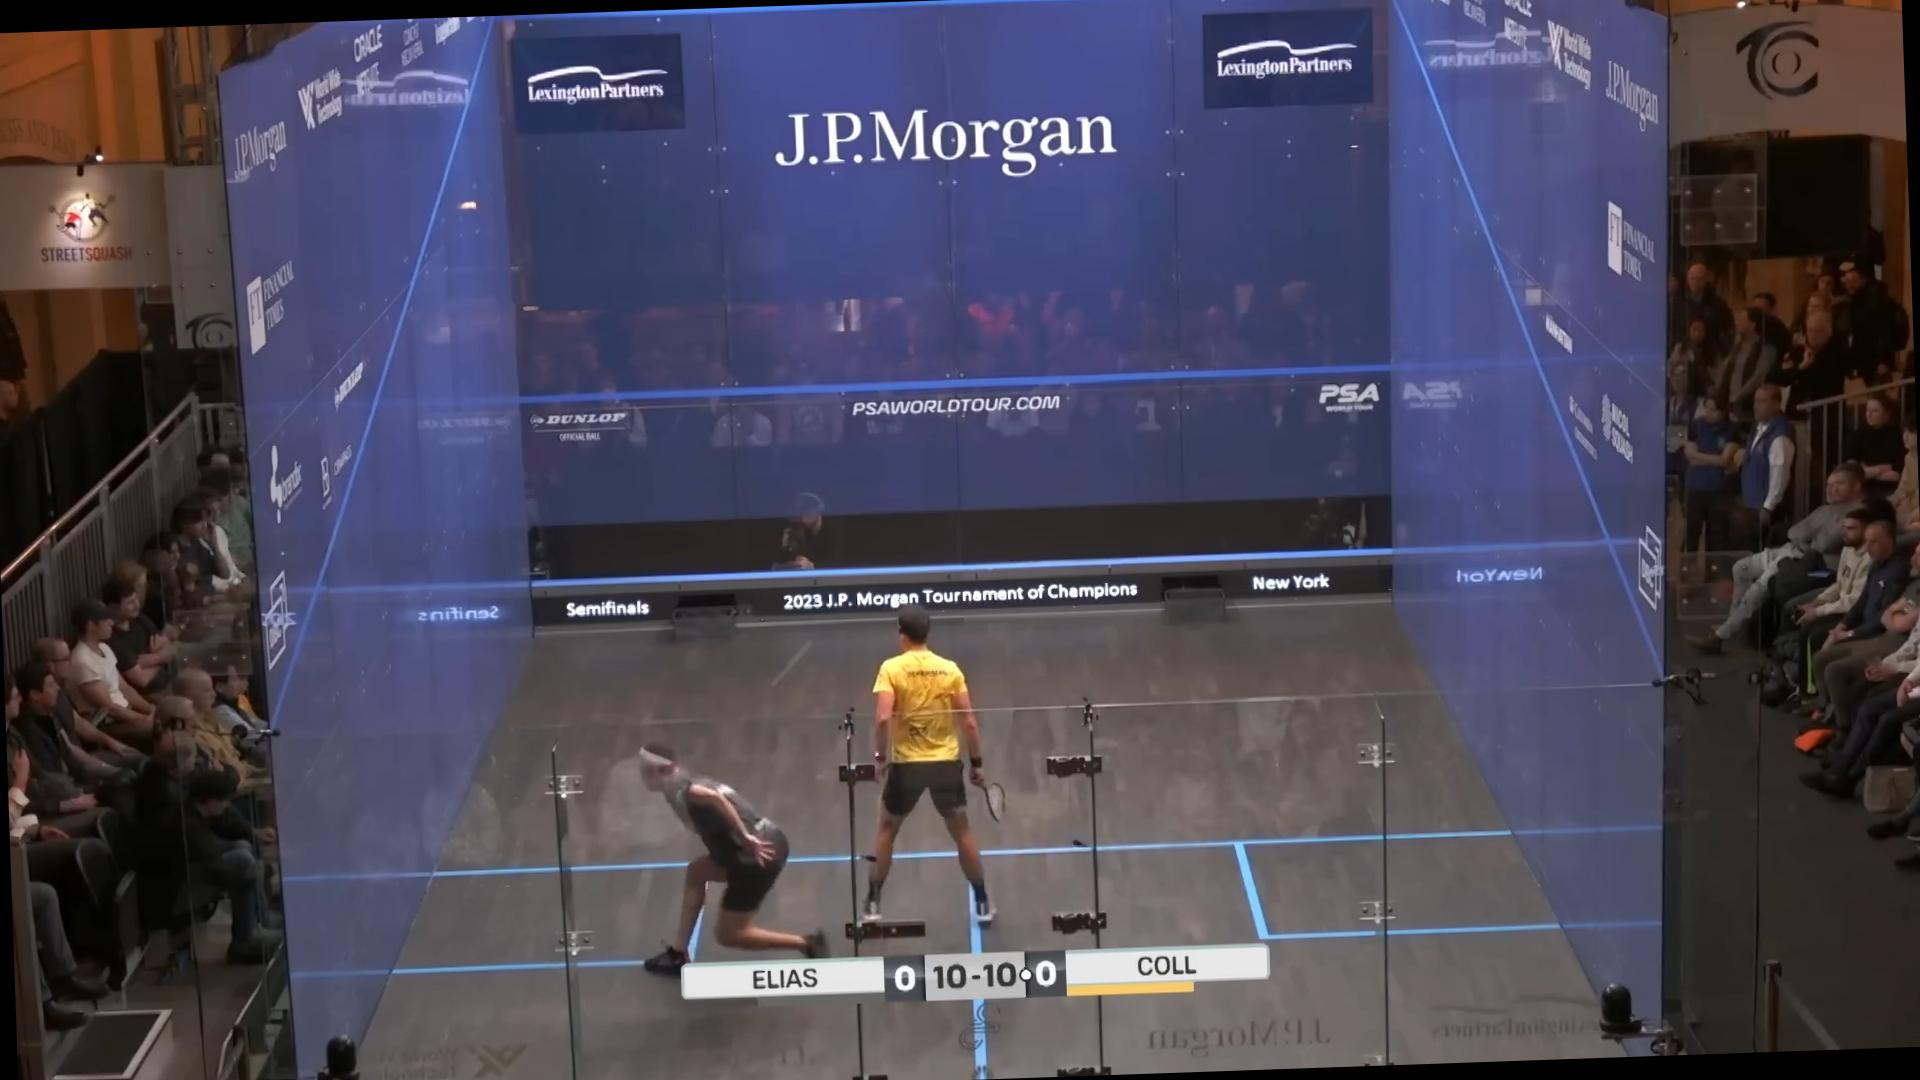Racket: (968, 777, 1018, 825)
